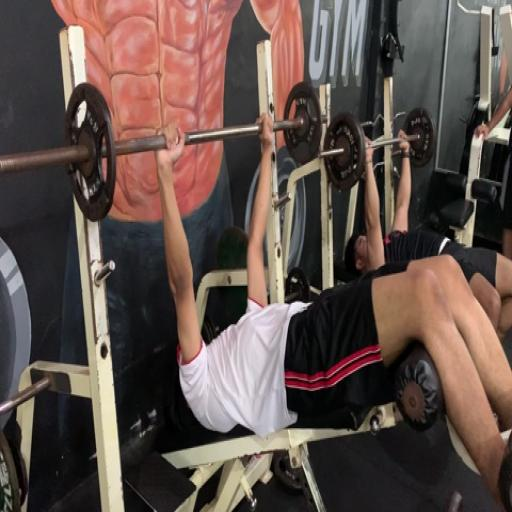exercise: (151, 112, 511, 510), (341, 127, 511, 344)
